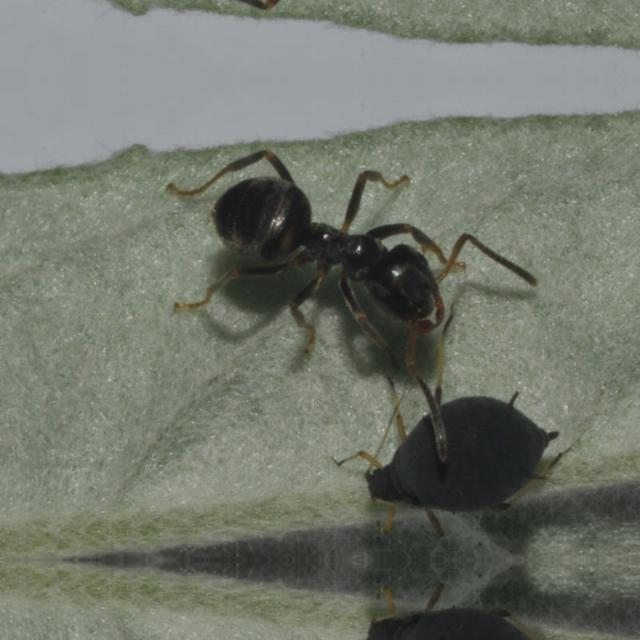Lasius: (184, 135, 516, 385)
